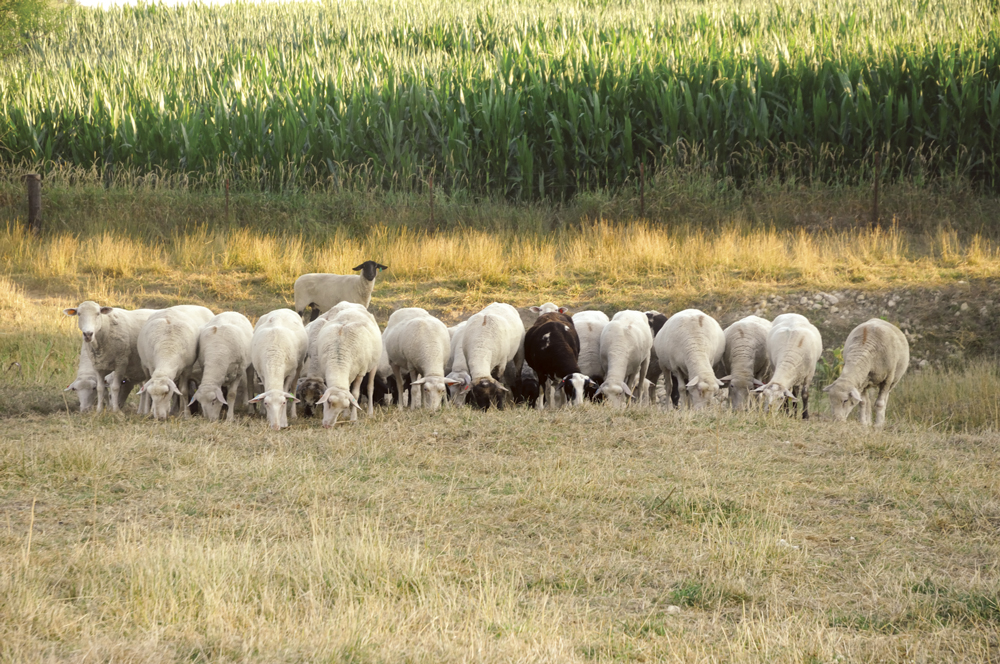sheep: (55, 299, 165, 417), (243, 311, 322, 439), (839, 311, 914, 434), (307, 297, 387, 409), (650, 307, 736, 411), (453, 302, 543, 400), (139, 307, 211, 421), (283, 235, 386, 311), (514, 299, 582, 413), (204, 313, 269, 431), (382, 304, 453, 409), (714, 304, 776, 415), (765, 304, 822, 418), (596, 300, 653, 409)
